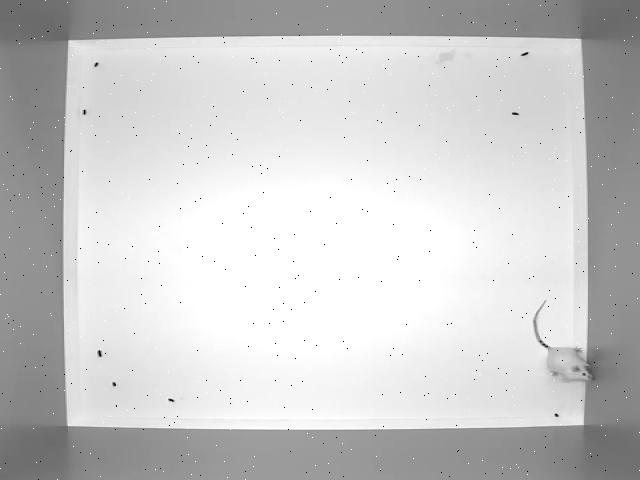Tikus: (528, 296, 594, 386)
